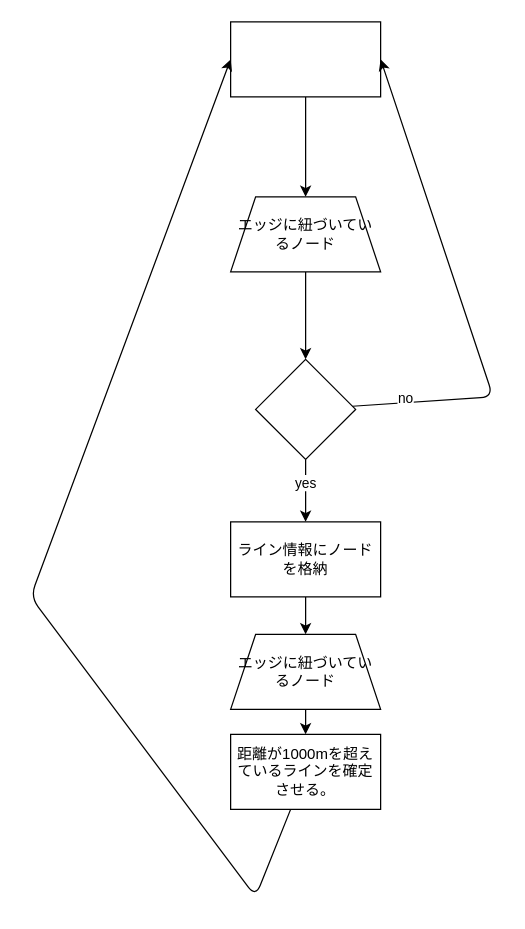
The diagram is 525 pixels wide and 929 high, and some of its shapes have lost their labels. The box of each missing label's shape, as (x1, y1, x2, y2) in pixels:
直前のノードとrefが同じ: (254, 358, 356, 459)
起点になるエッジを確定: (229, 21, 381, 97)
